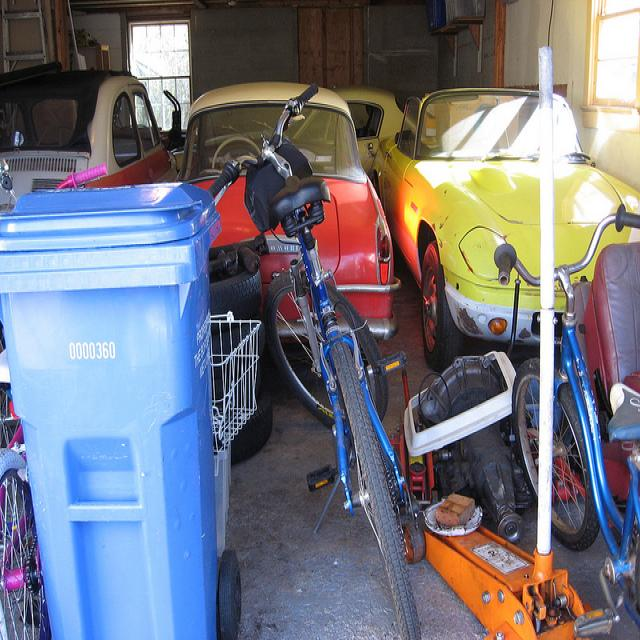Vehicle: (371, 86, 640, 367), (184, 81, 397, 332), (2, 74, 175, 208), (210, 167, 304, 327), (334, 85, 405, 178)
